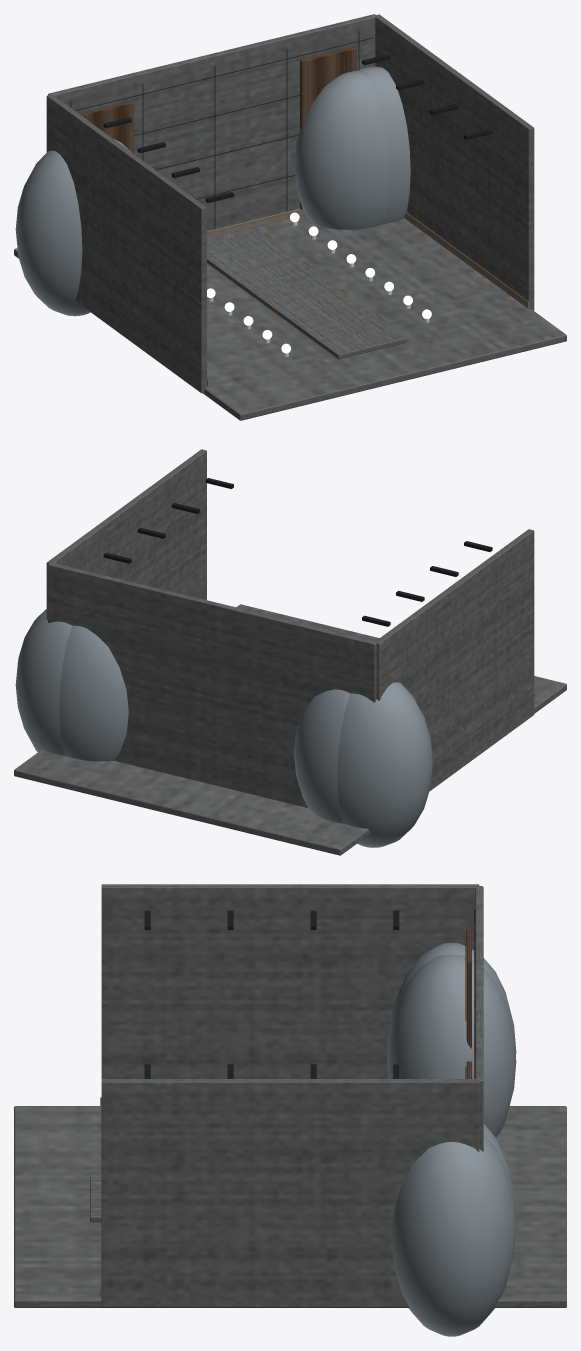
3 views of the same model, one above another, from view 1: azimuth 30°, elevation 25°; view 2: azimuth 150°, elevation 25°; view 3: azimuth 270°, elevation 25° (orthographic). The views are drawn at different scales.
Parts seen in each view (by area): view 1: Room floor, Back wall, Left wall, Right wall, Mountain distant 4.0, Long runway catwalk, Mountain distant -4.5, Mountain distant 4.5, Gallery grooved wall panel.001, Gallery grooved wall panel, Inset perimeter skirting.001, Rear dado skirting; view 2: Back wall, Left wall, Room floor, Mountain distant -4.5, Right wall, Mountain distant 4.0, Mountain distant 4.5, Mountain distant -4.0; view 3: Right wall, Left wall, Room floor, Mountain distant 4.5, Mountain distant -4.0, Back wall, Mountain distant -4.5, Gallery grooved wall panel, Long runway catwalk.
Boxes of the visible parts, x1,y1,x2,y2 form: Room floor: (14,214,566,420); Back wall: (48,14,376,231); Left wall: (46,94,206,393); Right wall: (375,14,534,310); Mountain distant 4.0: (294,70,389,229); Long runway catwalk: (207,231,406,359); Mountain distant -4.5: (15,150,90,316); Mountain distant 4.5: (358,66,410,223); Gallery grooved wall panel.001: (300,46,356,209); Gallery grooved wall panel: (79,101,134,153); Inset perimeter skirting.001: (404,212,528,308); Rear dado skirting: (207,209,305,238); Back wall: (48,562,376,808); Left wall: (375,529,534,791); Room floor: (14,604,566,855); Mountain distant -4.5: (337,682,432,847); Right wall: (46,449,206,619); Mountain distant 4.0: (59,625,128,761); Mountain distant 4.5: (15,609,71,755); Mountain distant -4.0: (294,689,357,843); Right wall: (101,1079,479,1307); Left wall: (101,884,479,1078); Room floor: (14,1106,566,1307); Mountain distant 4.5: (392,1134,516,1336); Mountain distant -4.0: (387,954,516,1137); Back wall: (475,886,483,1151); Mountain distant -4.5: (387,943,516,1055); Gallery grooved wall panel: (466,929,471,1048); Long runway catwalk: (90,1176,101,1222).
Size of the model in its own units: 12.4 by 6.25 by 12.
Materials: 9 (6 with a texture image).
